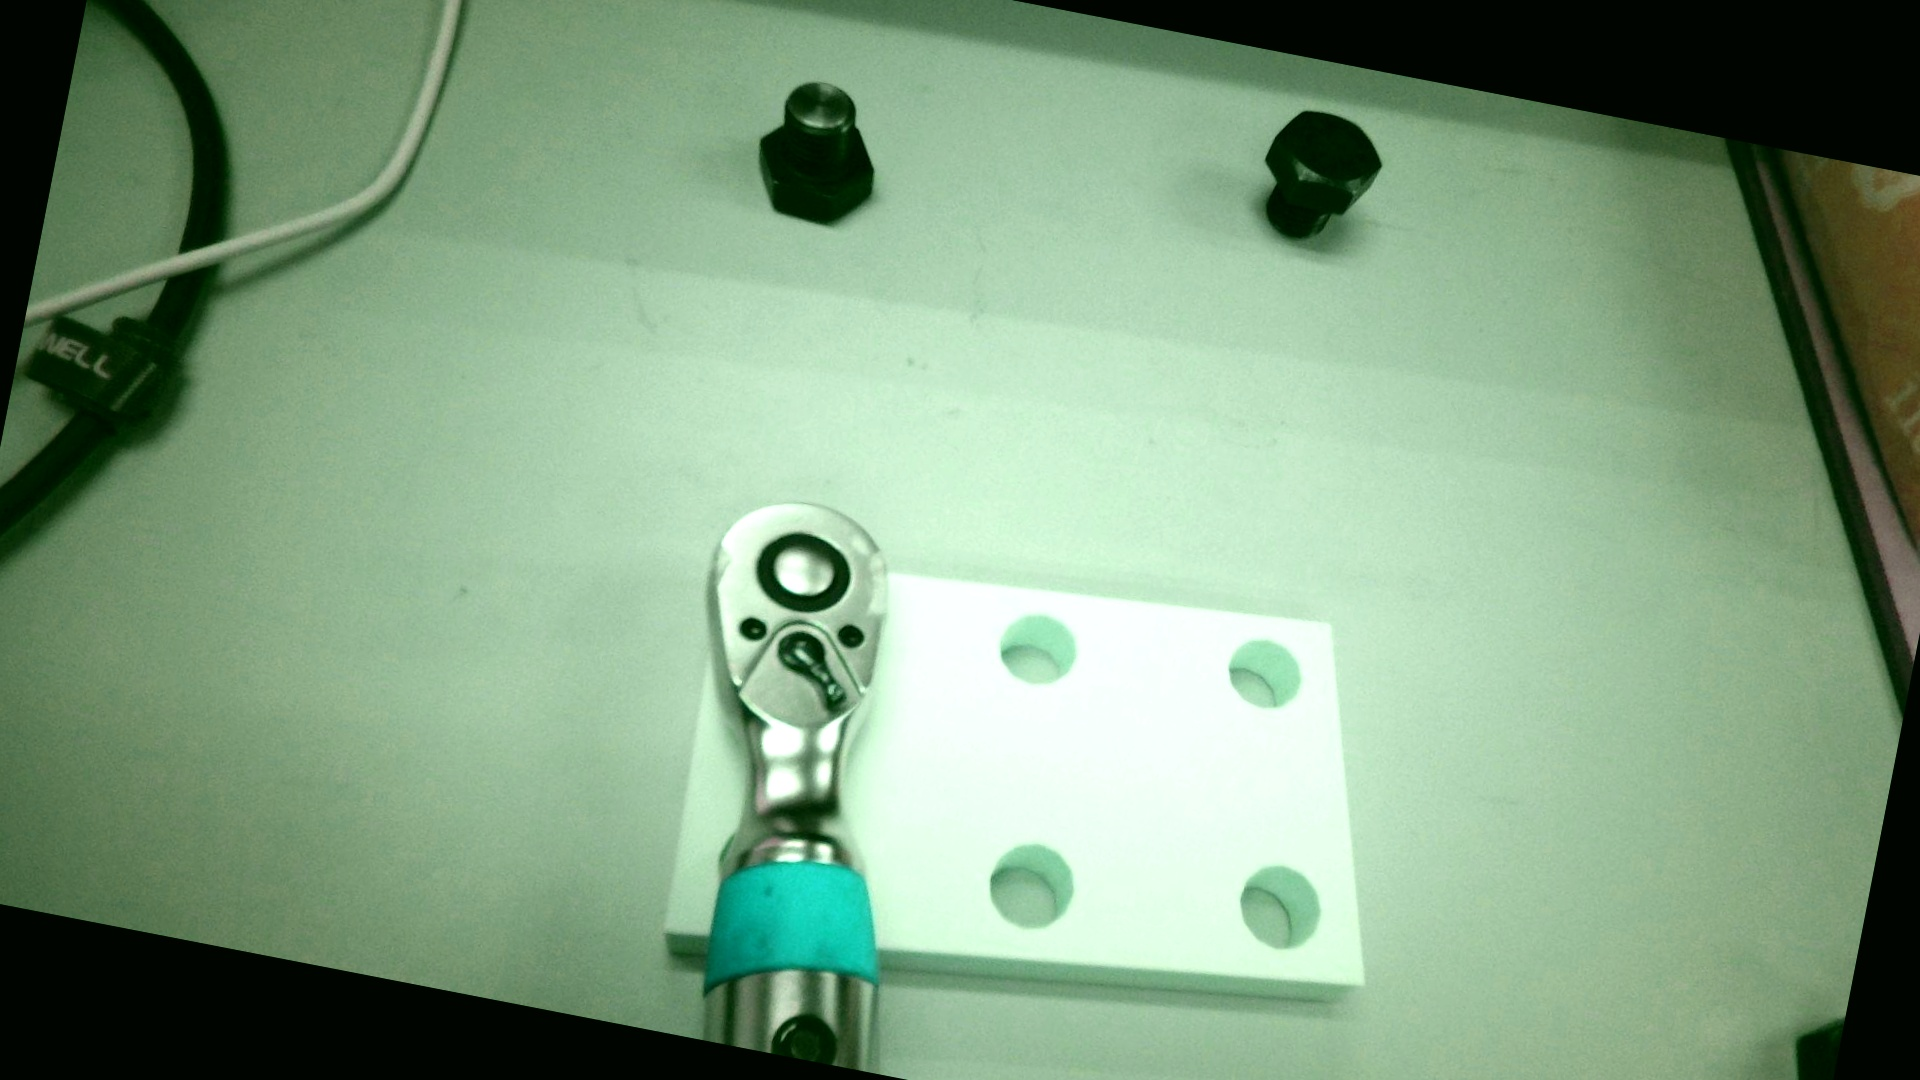hole: (982, 837, 1081, 935), (1232, 858, 1327, 957), (992, 607, 1085, 692), (1220, 633, 1307, 715)
obj: (647, 508, 1435, 1080)
wrench: (748, 525, 858, 620)
